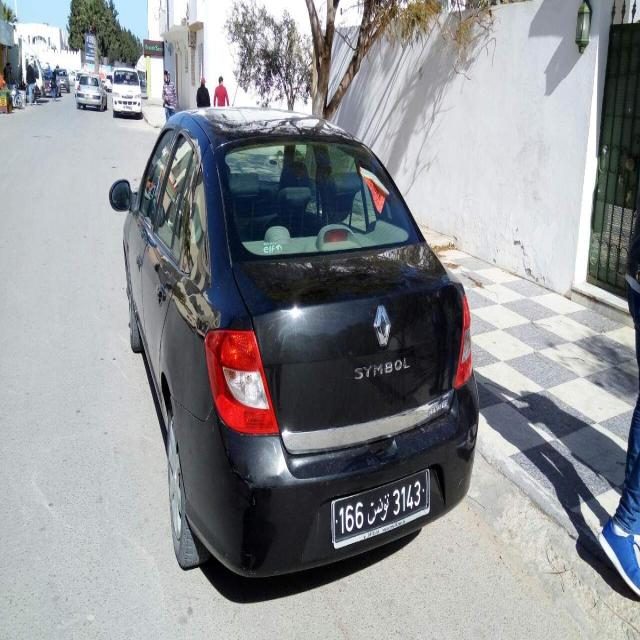LP: (330, 470, 430, 545)
